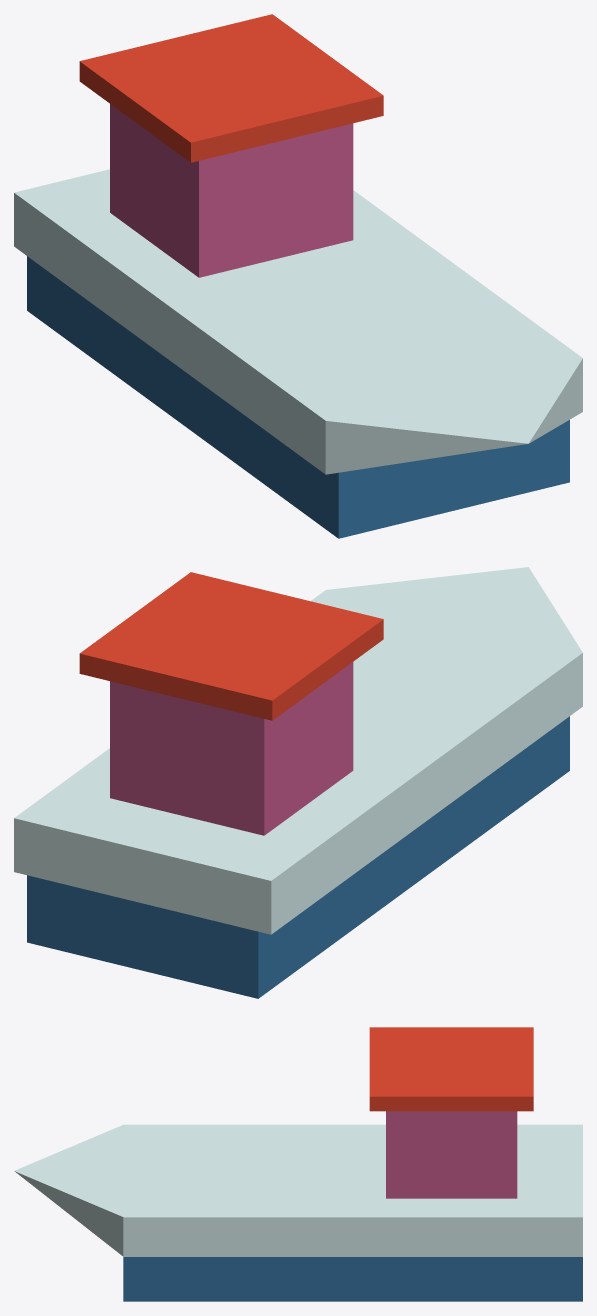
File: boat.glb
3 views of the same model, one above another, from view 1: azimuth 30°, elevation 25°; view 2: azimuth 150°, elevation 25°; view 3: azimuth 270°, elevation 25° (orthographic). The views are drawn at different scales.
Parts seen in each view (by area): view 1: boat; view 2: boat; view 3: boat.
Part boxes in pixels (box(x1,y1,x2,y2)): boat: box(14, 14, 582, 538); boat: box(14, 567, 582, 998); boat: box(14, 1027, 582, 1301).
Bounding box in the file's own units: 2 × 2 × 5.2.
